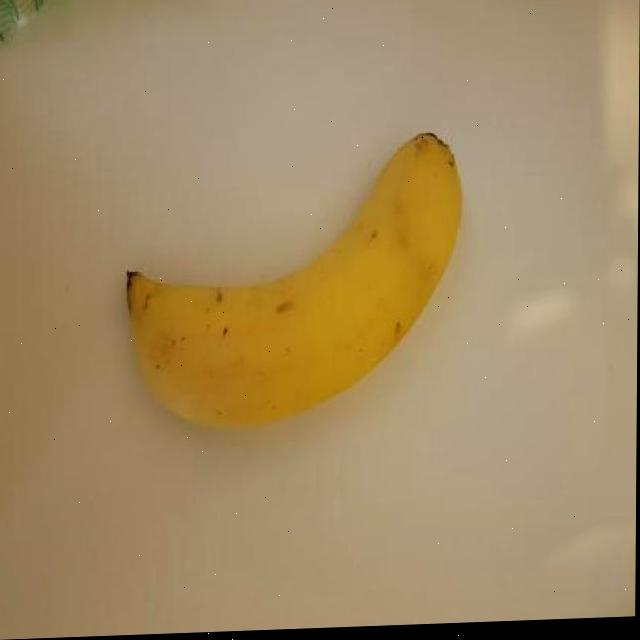banana: (118, 118, 469, 442)
